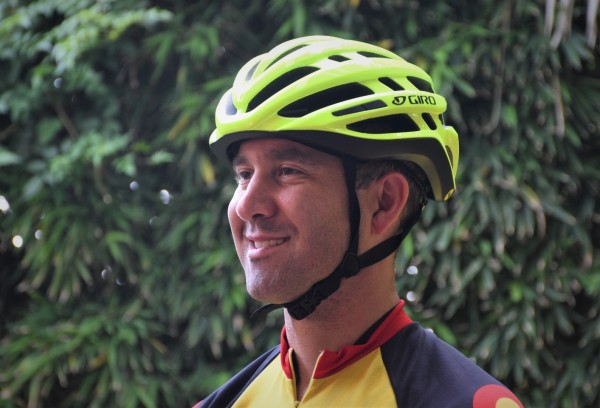helmet: (208, 35, 459, 304)
